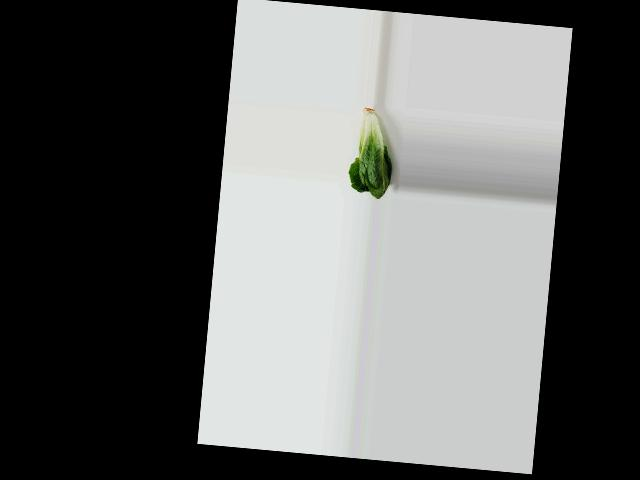lettuce: (345, 102, 399, 200)
